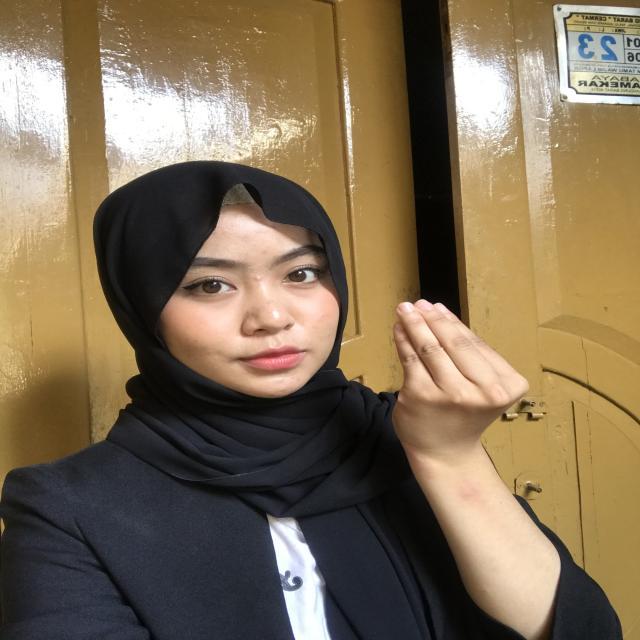kapan: (364, 290, 533, 520)
